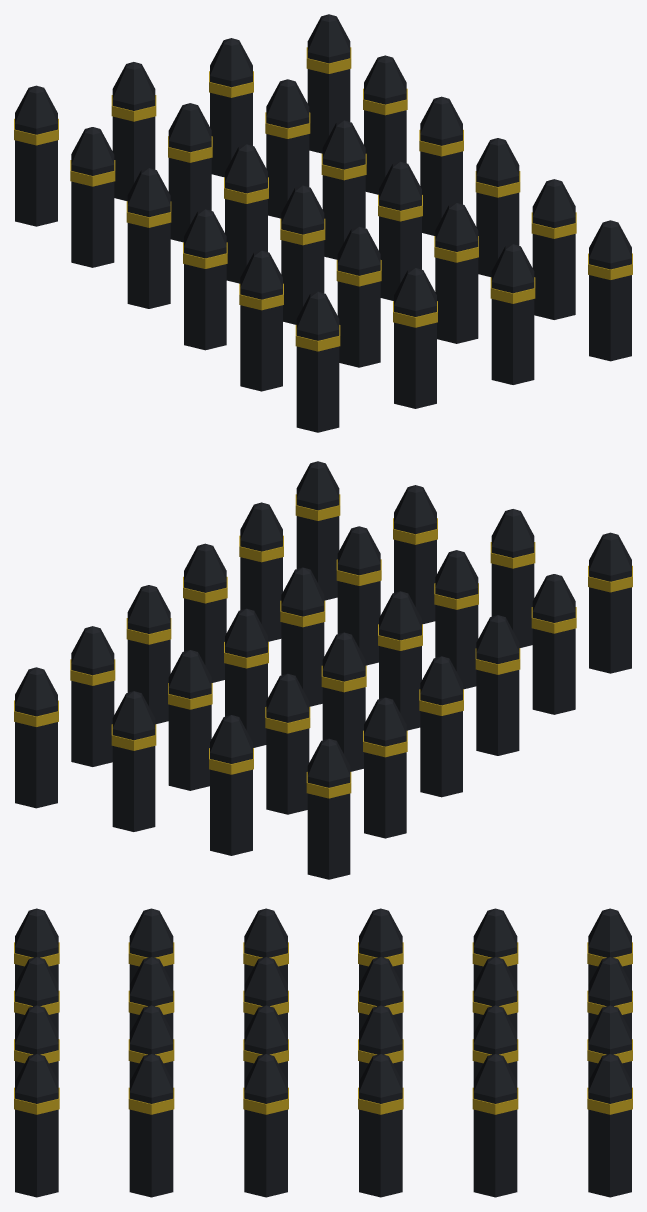
The model's file is bk24_drones.obj.
3 views of the same model, one above another, from view 1: azimuth 30°, elevation 25°; view 2: azimuth 150°, elevation 25°; view 3: azimuth 270°, elevation 25° (orthographic).
Parts seen in each view (by area): view 1: bk24_drones; view 2: bk24_drones; view 3: bk24_drones.
Part boxes in pixels (x1,y1,x2,y2): bk24_drones: (14, 14, 632, 432); bk24_drones: (14, 461, 632, 879); bk24_drones: (14, 908, 632, 1197).
Size of the model in its own units: 1.73 by 0.69 by 2.7.
